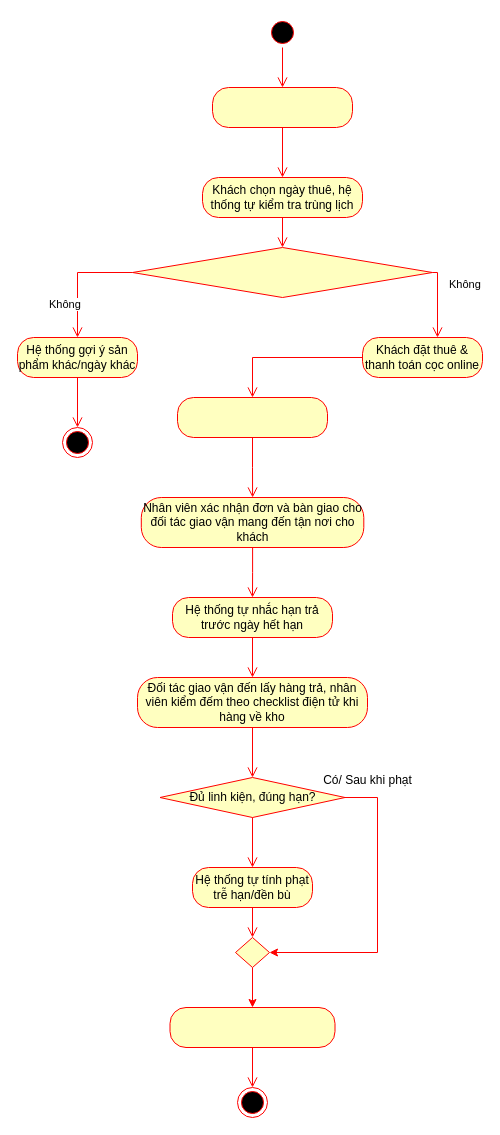
The diagram is 500 pixels wide and 1135 high, and some of its shapes have lost their labels. Each missing label, with the centre of its shape:
Hệ thống tự tính tiền thuê theo biểu giá lũy tiến: (252,417)
Hệ thống tự tính và thực hiện hoàn cọc, gửi phiếu xác nhận: (252,1027)
Khách xem tồn kho thời gian thực trên website: (282,107)
Sản phẩm còn trống đúng khoảng ngày chọn?: (282,272)
